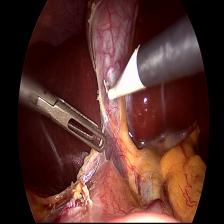Grasper: (41, 94, 106, 162)
Hook: (101, 37, 146, 107)
